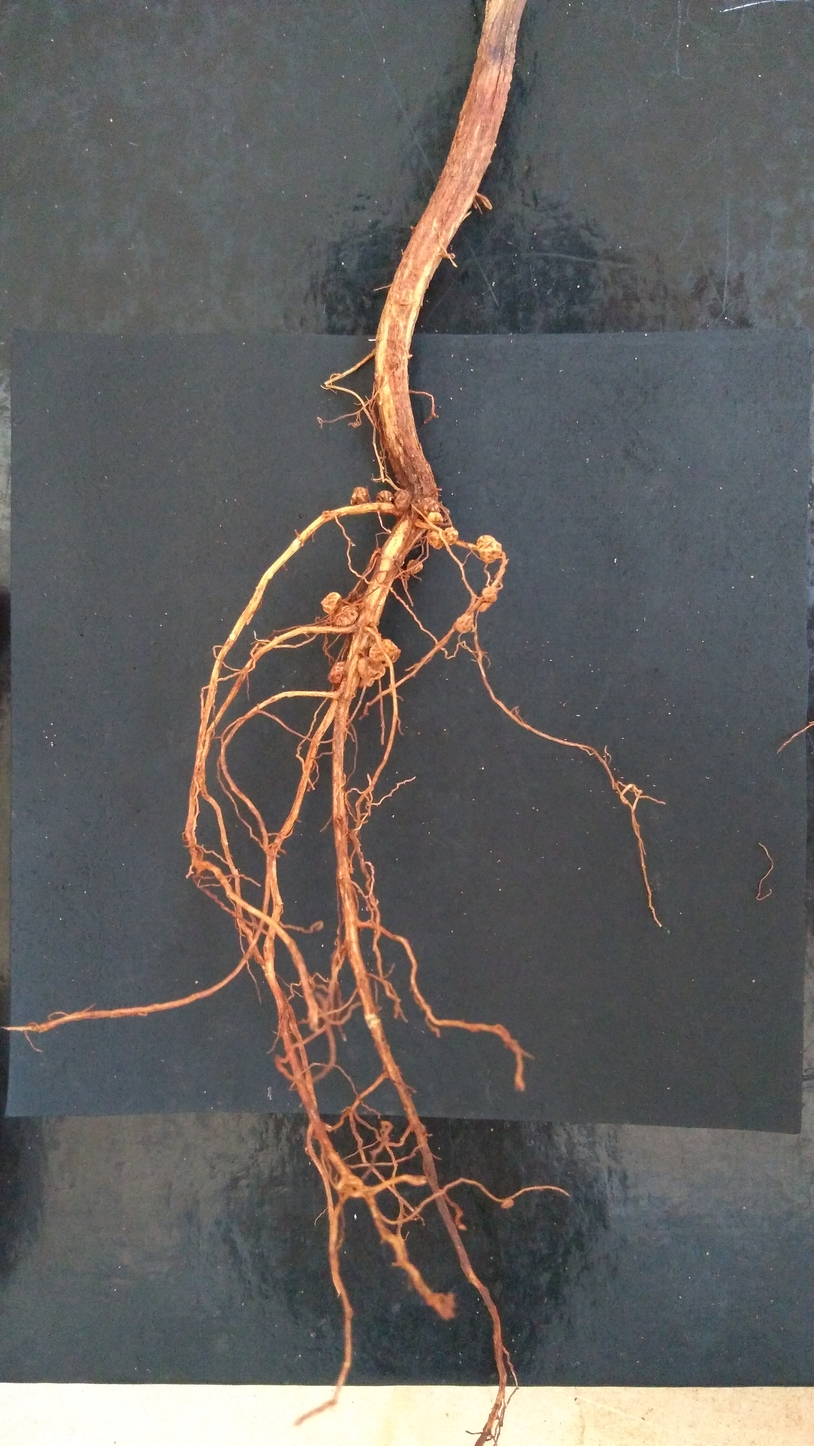nodule: (321, 592, 359, 626), (358, 656, 385, 687), (369, 638, 401, 663), (335, 1175, 365, 1199), (477, 535, 502, 563), (427, 512, 445, 550), (419, 497, 440, 517), (350, 486, 370, 506), (328, 662, 345, 685), (394, 489, 411, 511), (455, 614, 473, 632), (443, 526, 458, 545), (376, 490, 394, 504), (482, 587, 498, 602), (477, 596, 492, 612), (407, 560, 423, 574), (499, 1198, 515, 1210)
